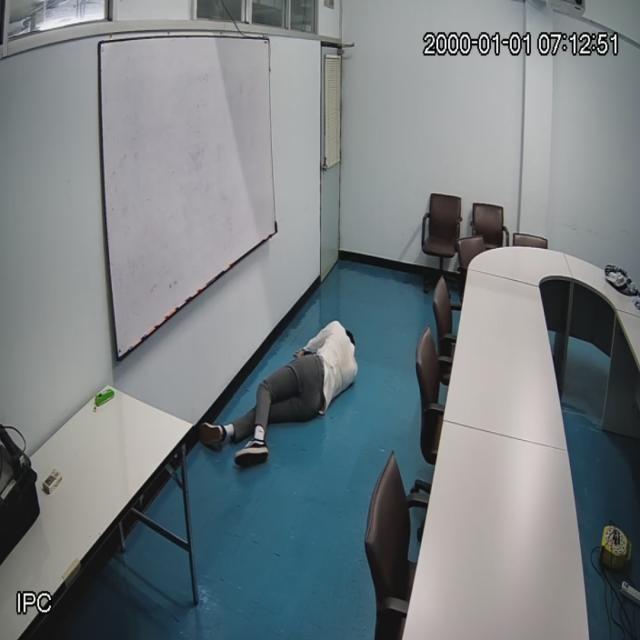fall: (202, 322, 357, 455)
